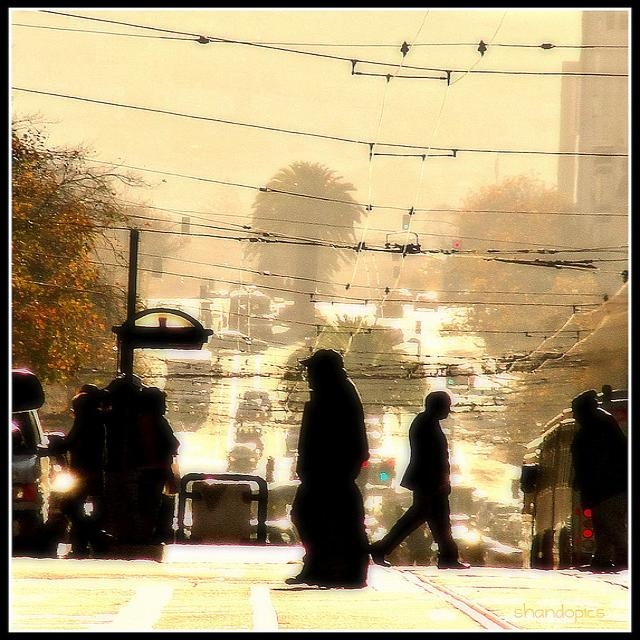Vehicle: (508, 383, 634, 571)
